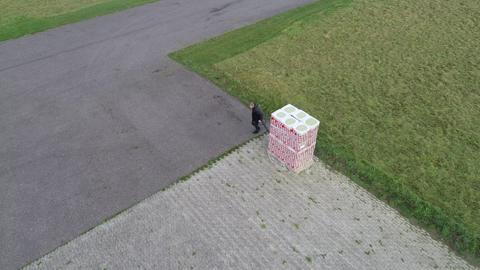RockwoolPallet: (268, 103, 321, 173)
